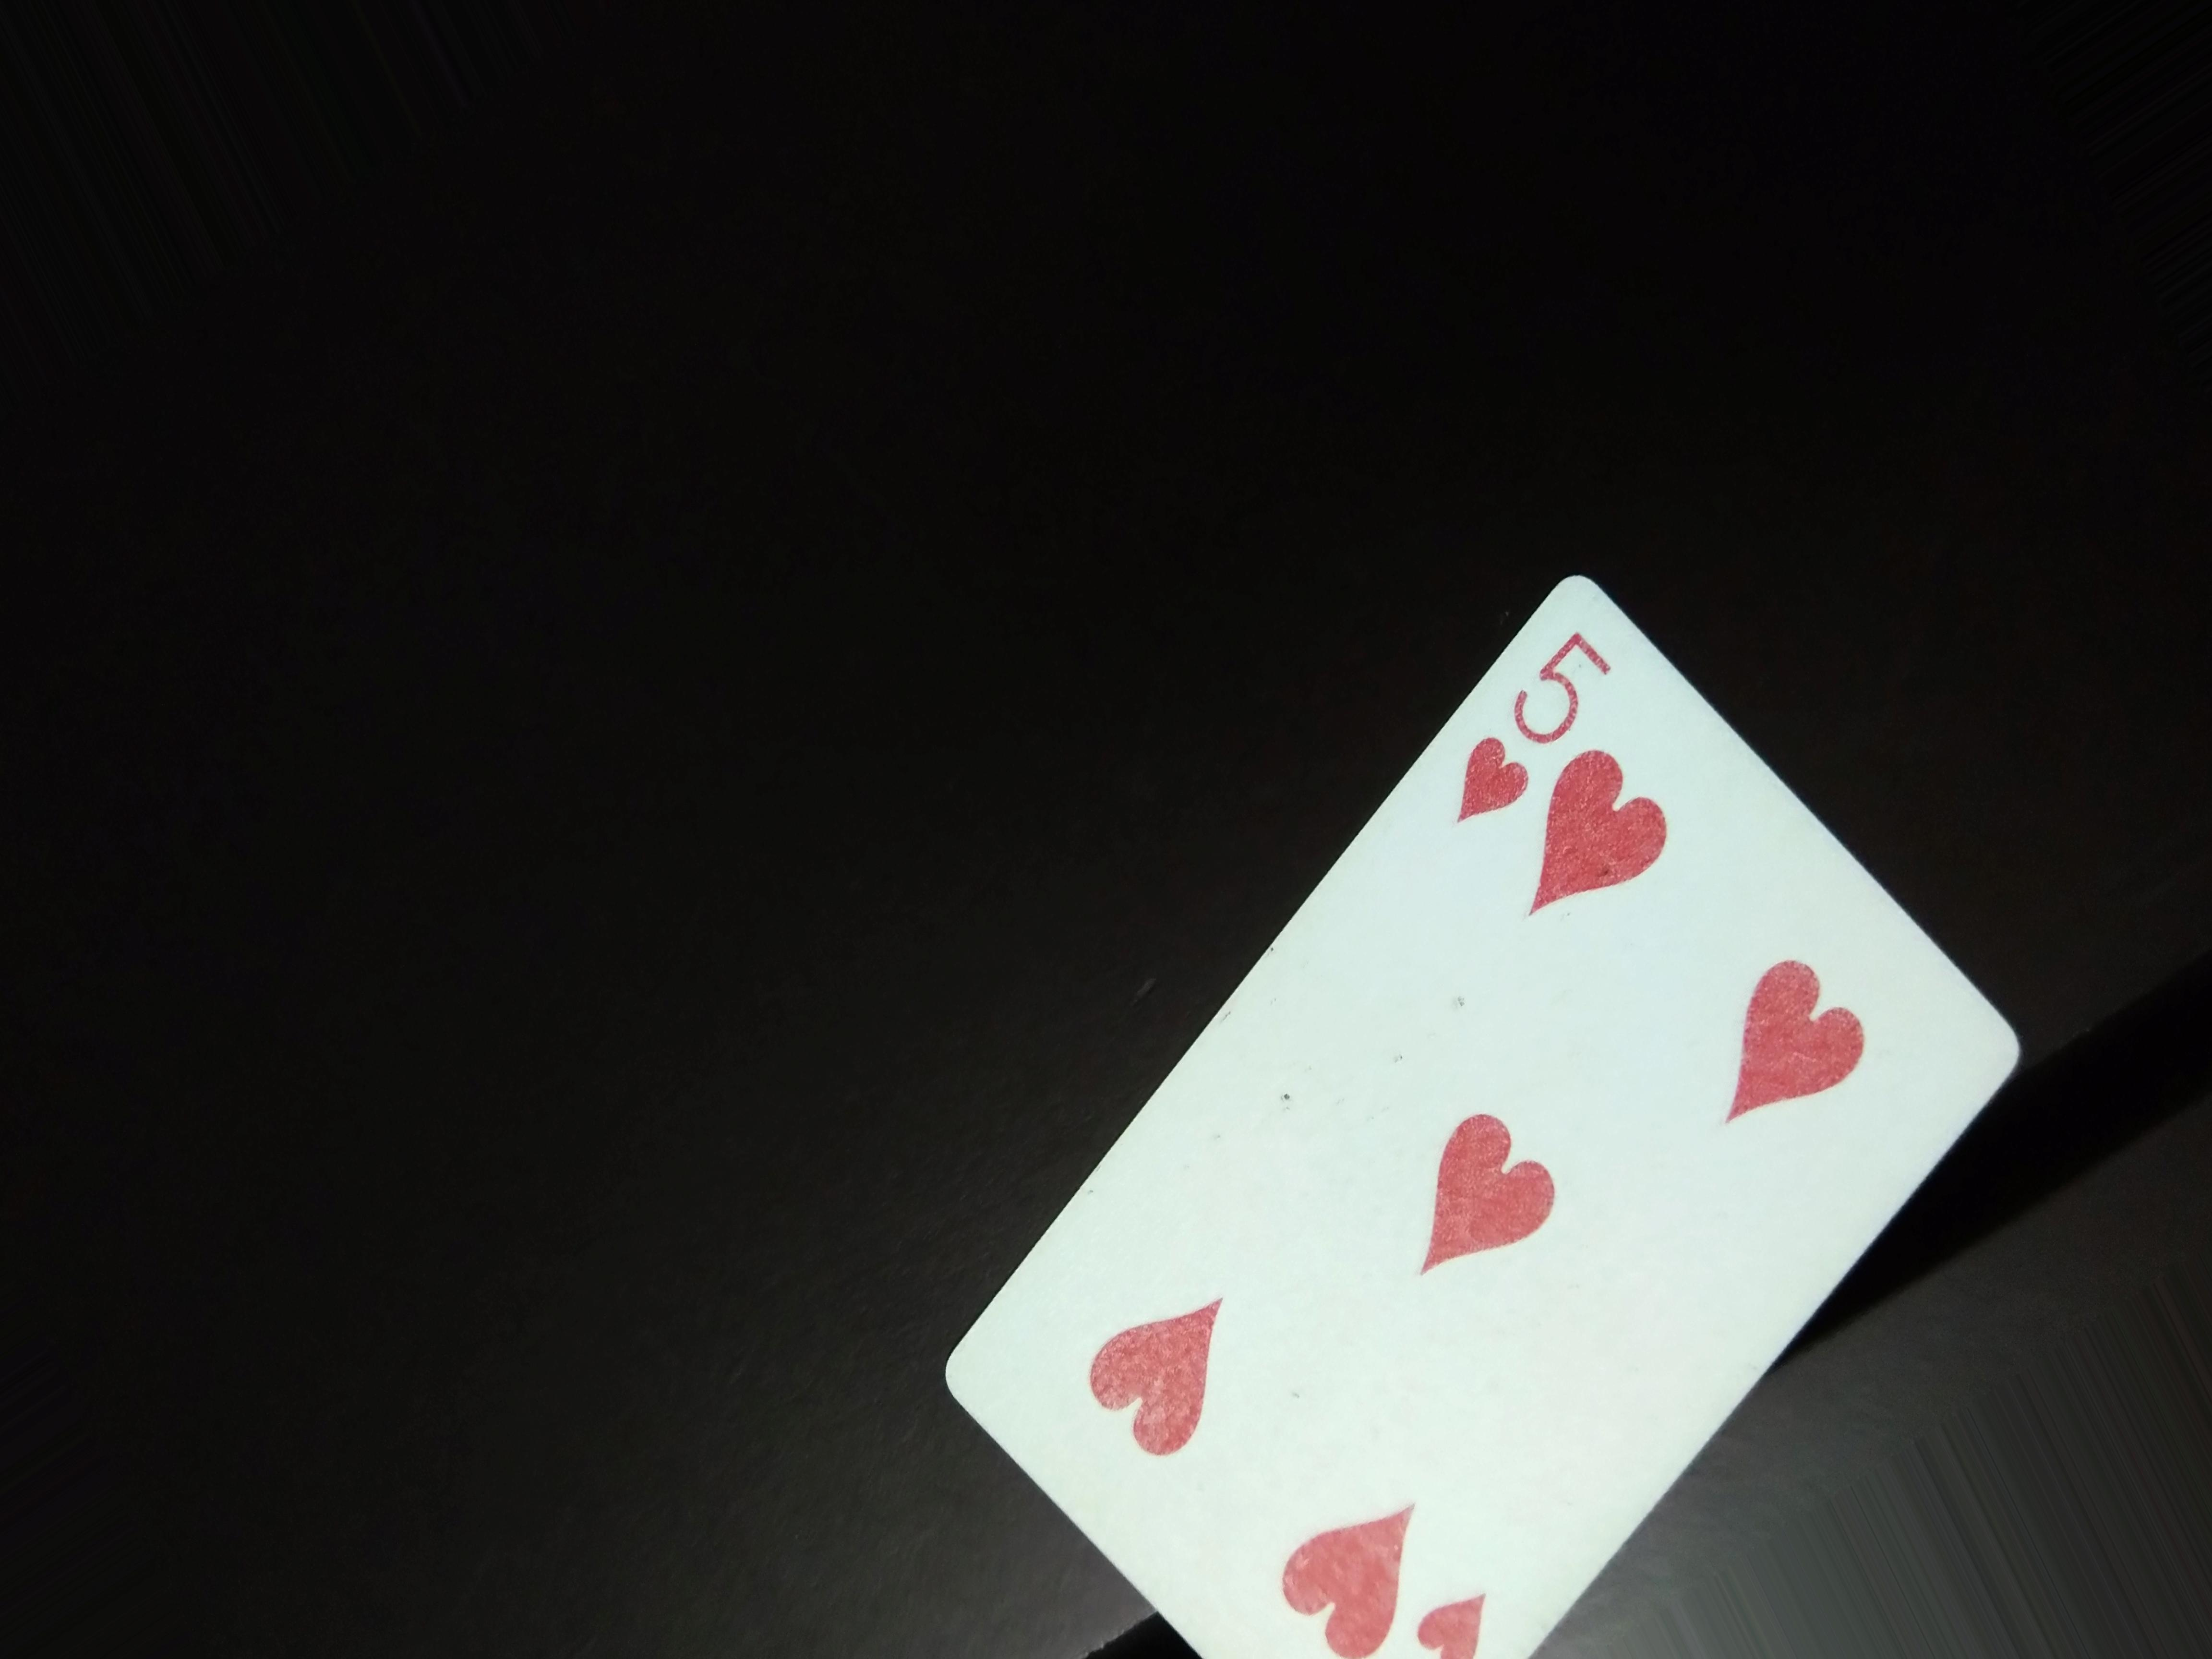5H: (1437, 612, 1620, 847)
